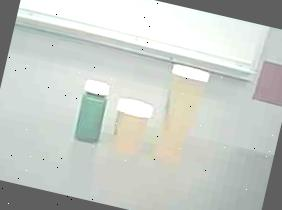Bottle A: (150, 58, 215, 172)
Bottle B: (105, 94, 157, 162)
Bottle C: (69, 74, 118, 150)
